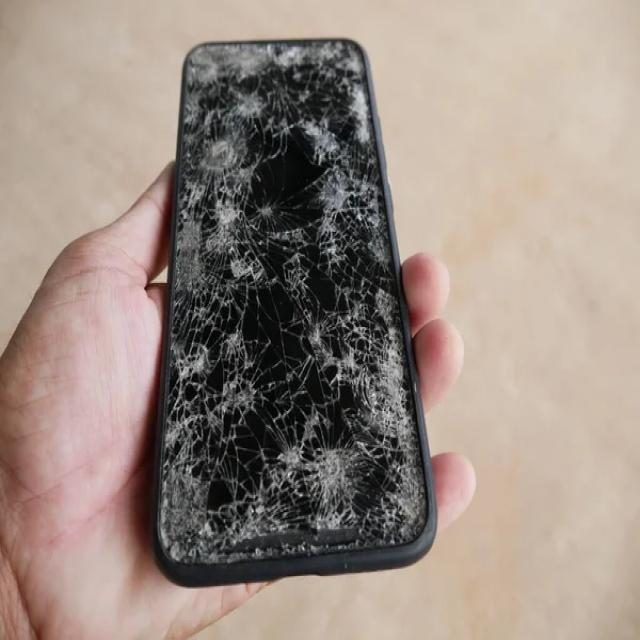Crack: (150, 33, 438, 574)
